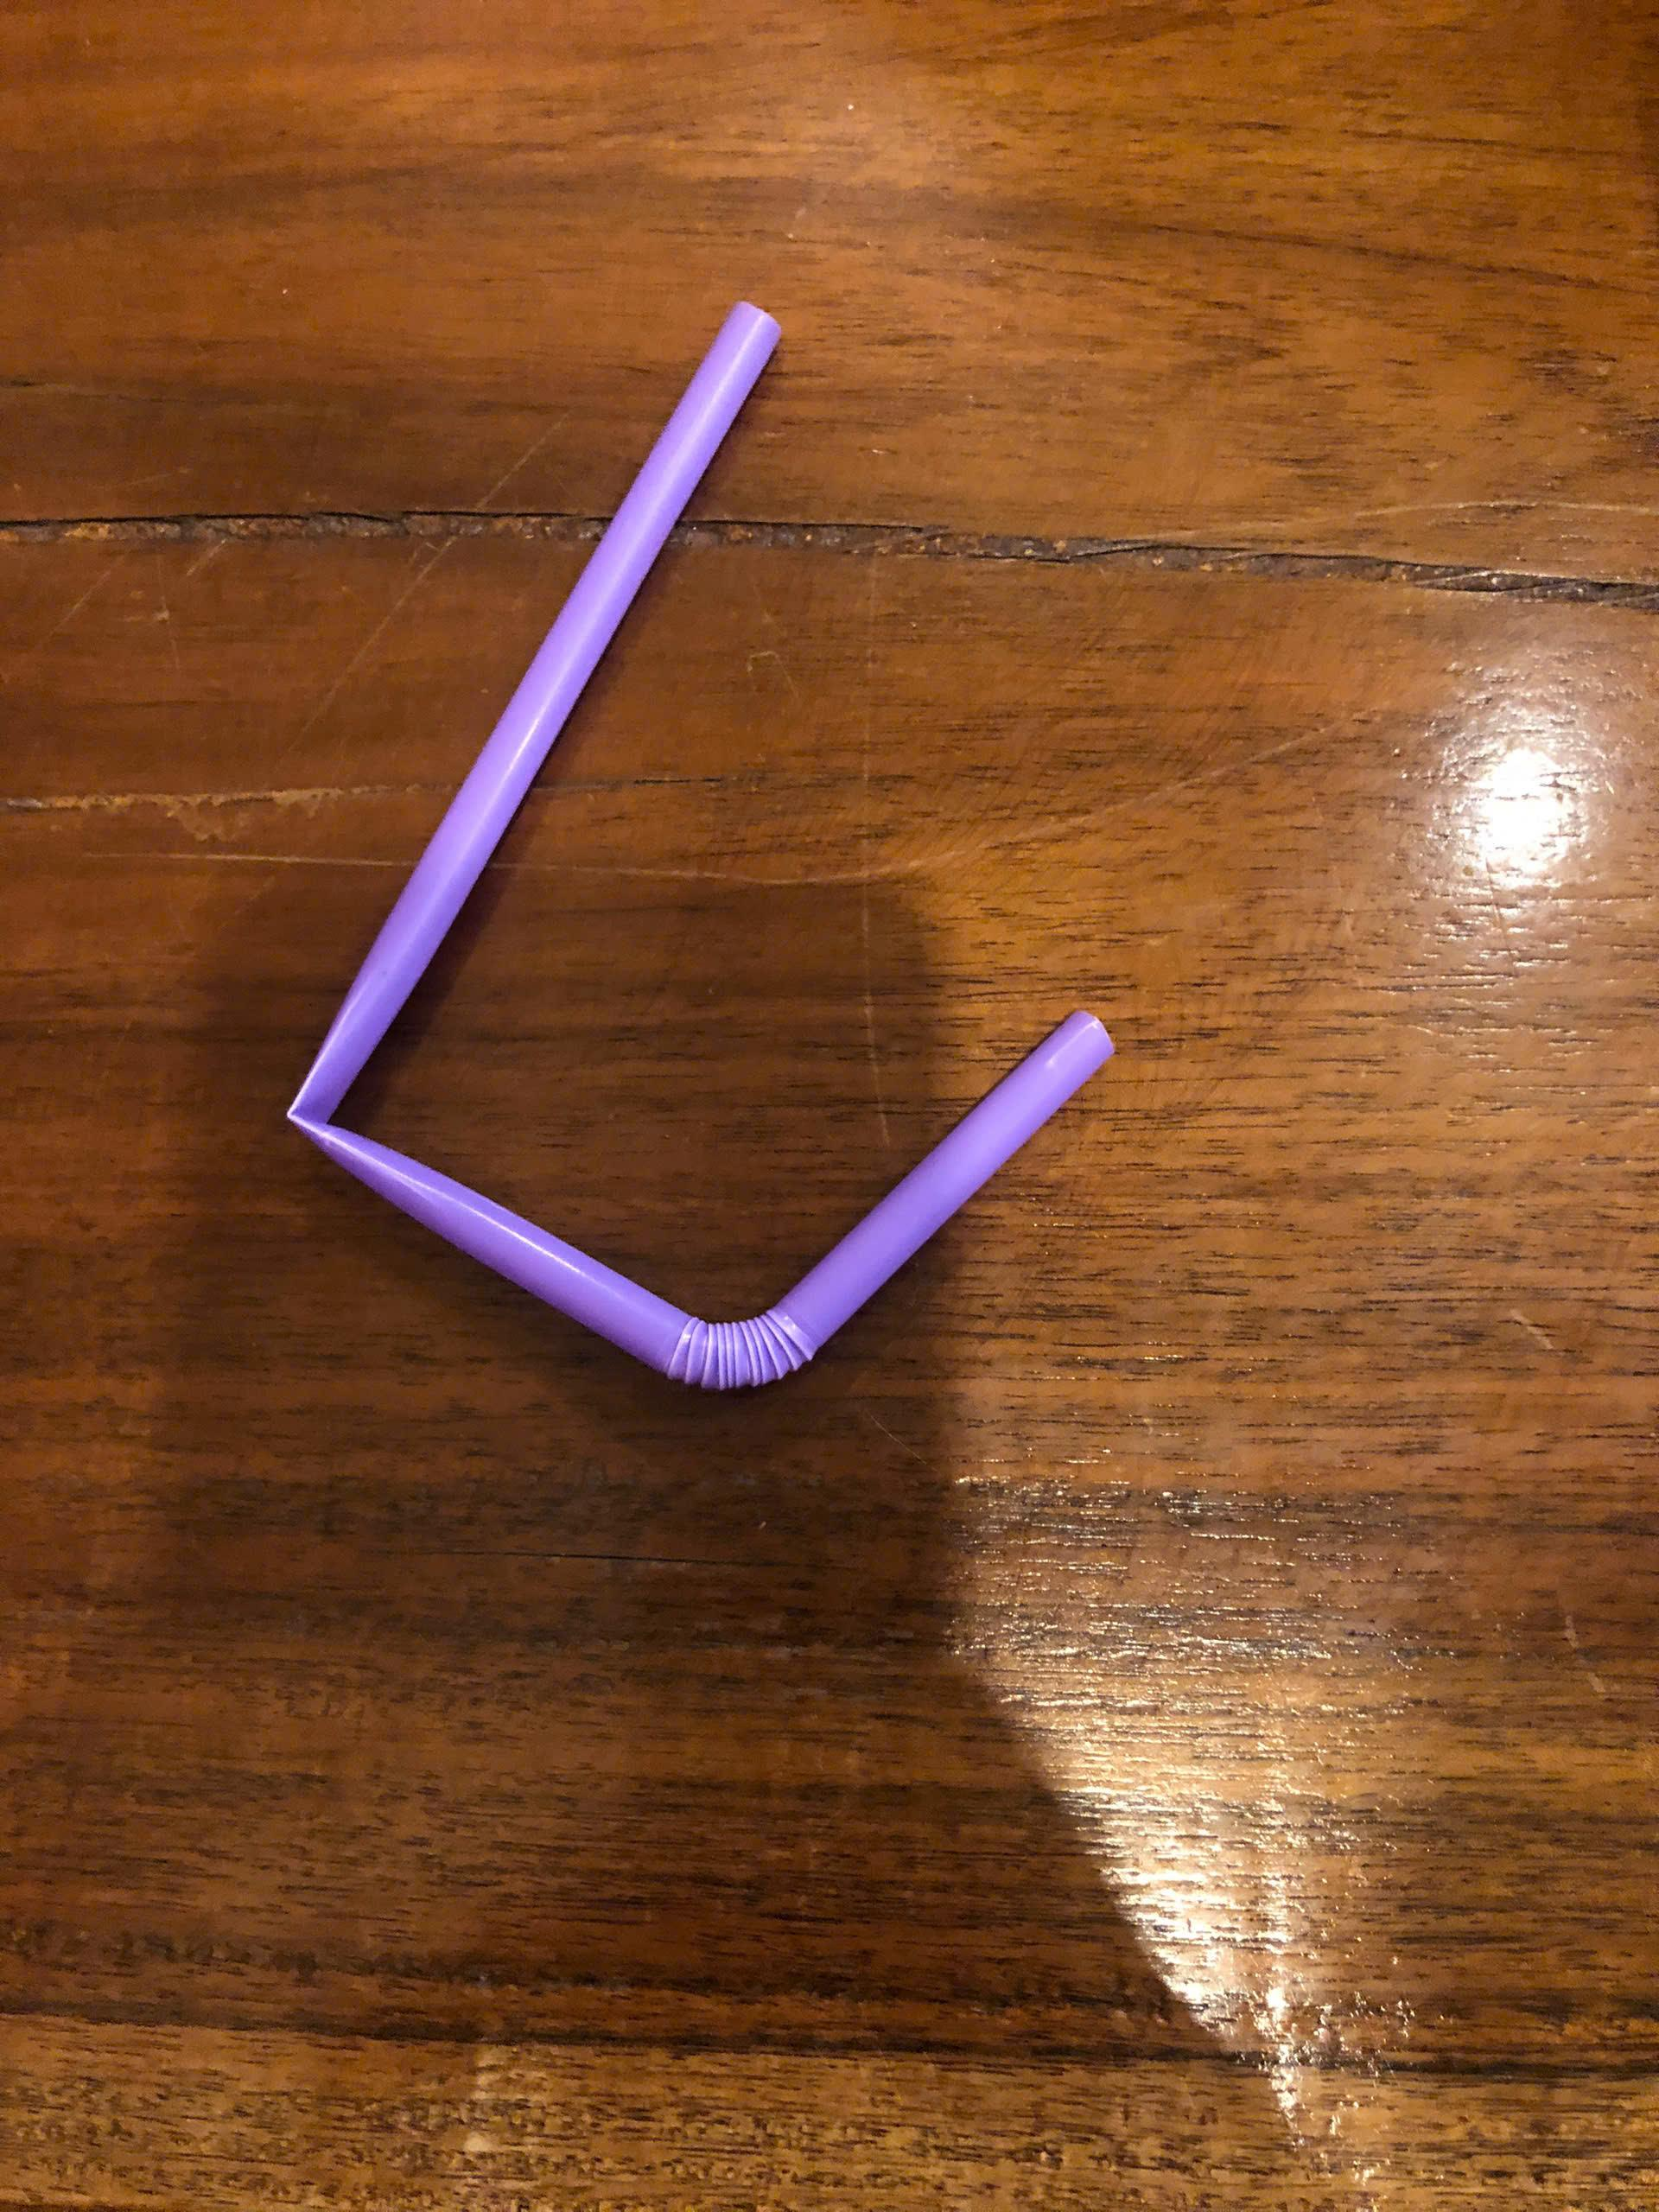Vo co: (281, 303, 1117, 1406)
